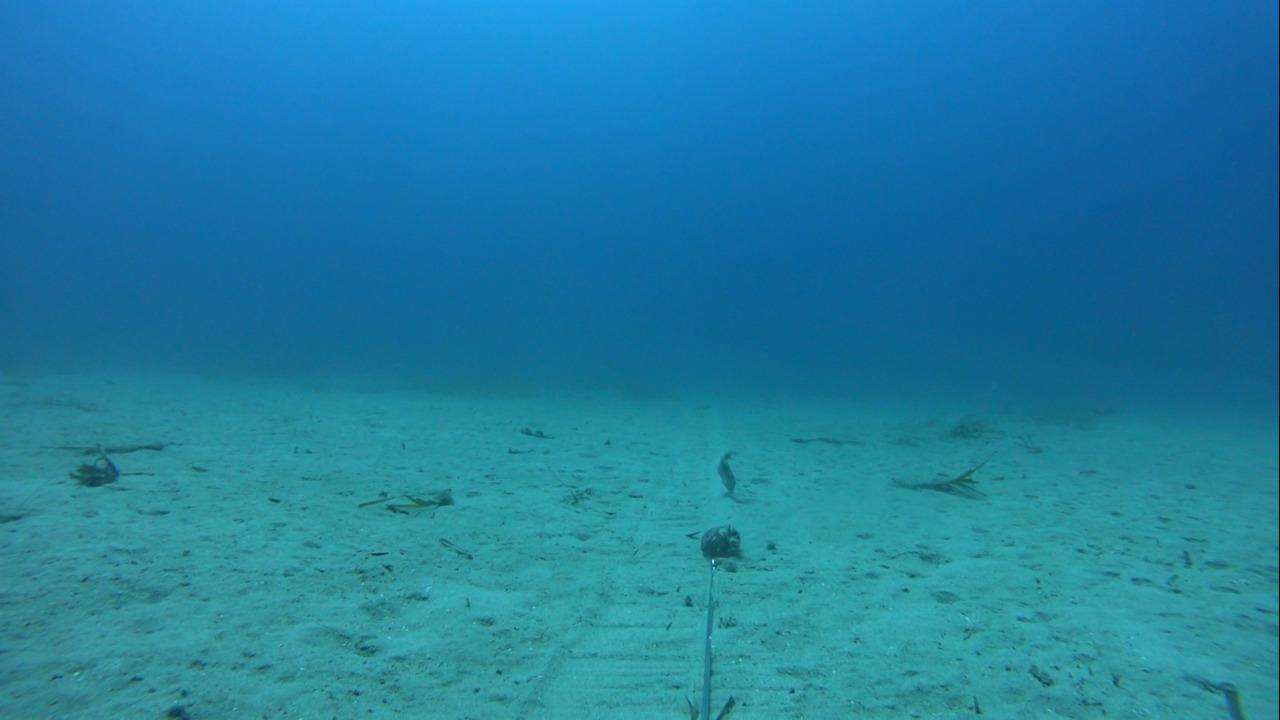raor: (710, 442, 738, 495)
